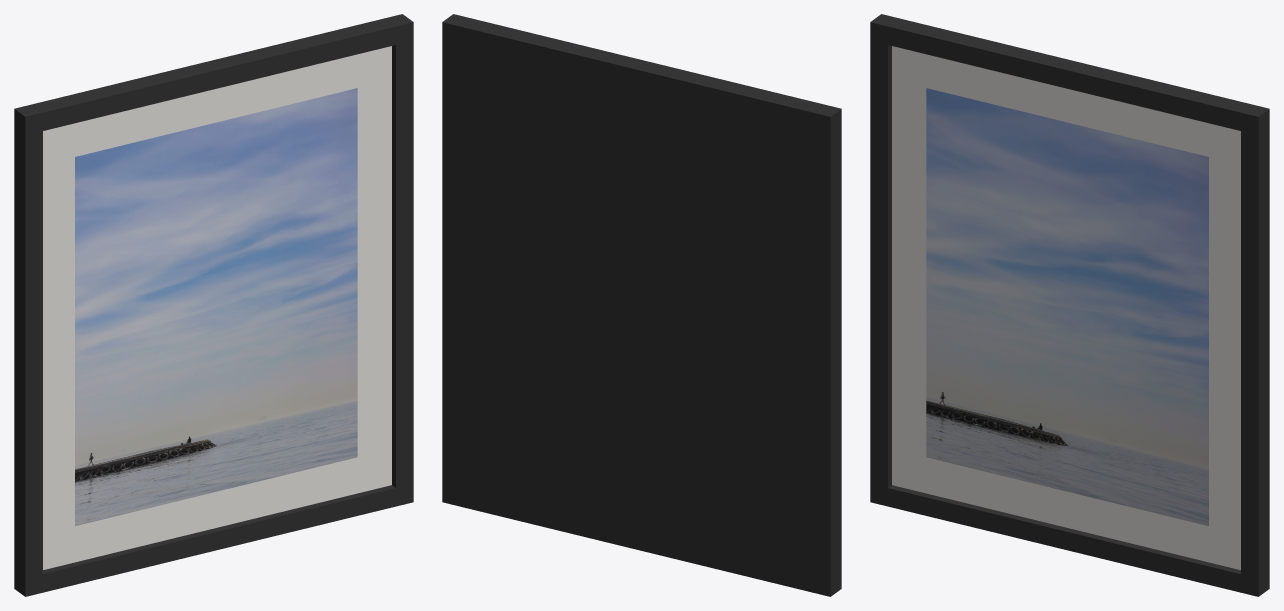
Rendered from piren-40.gltf.
3 renders of one model, left to right at view 1: azimuth 30°, elevation 25°; view 2: azimuth 150°, elevation 25°; view 3: azimuth 330°, elevation 25°, orthographic.
Parts seen in each view (by area): view 1: tavla; view 2: tavla; view 3: tavla.
Part boxes in pixels (x1=…): tavla: x1=14, y1=14, x2=413, y2=596; tavla: x1=442, y1=14, x2=841, y2=596; tavla: x1=870, y1=14, x2=1269, y2=596.
Size of the model in its own units: 0.4402 by 0.52 by 0.022.
3 materials, 1 textured.
